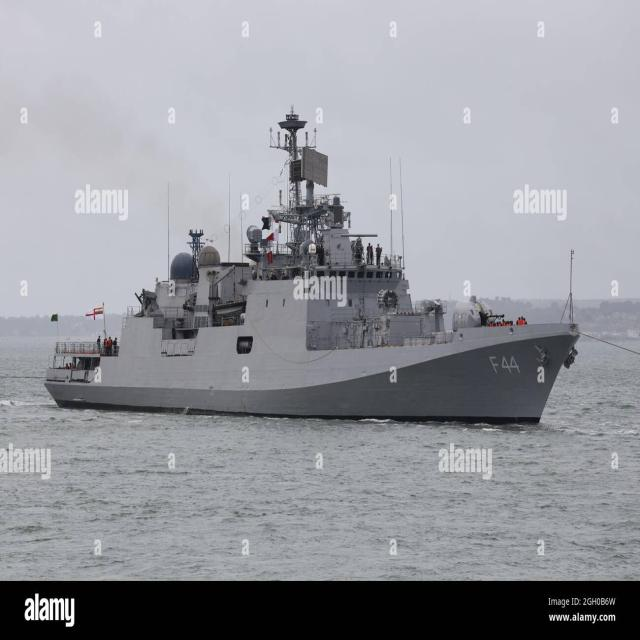Frigate-Talwar-Class-IND: (44, 103, 582, 423)
